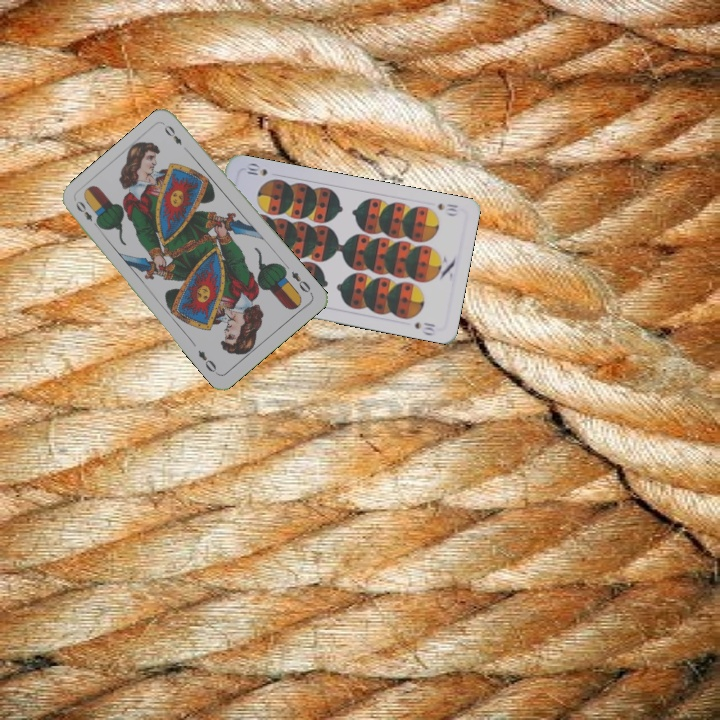EO: (71, 197, 102, 231), (287, 267, 315, 297)
S10: (434, 199, 461, 218)
